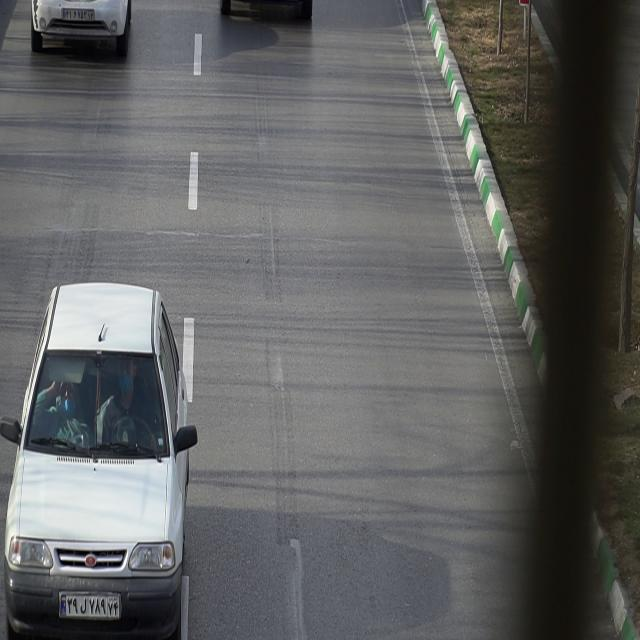car: (1, 279, 195, 640)
